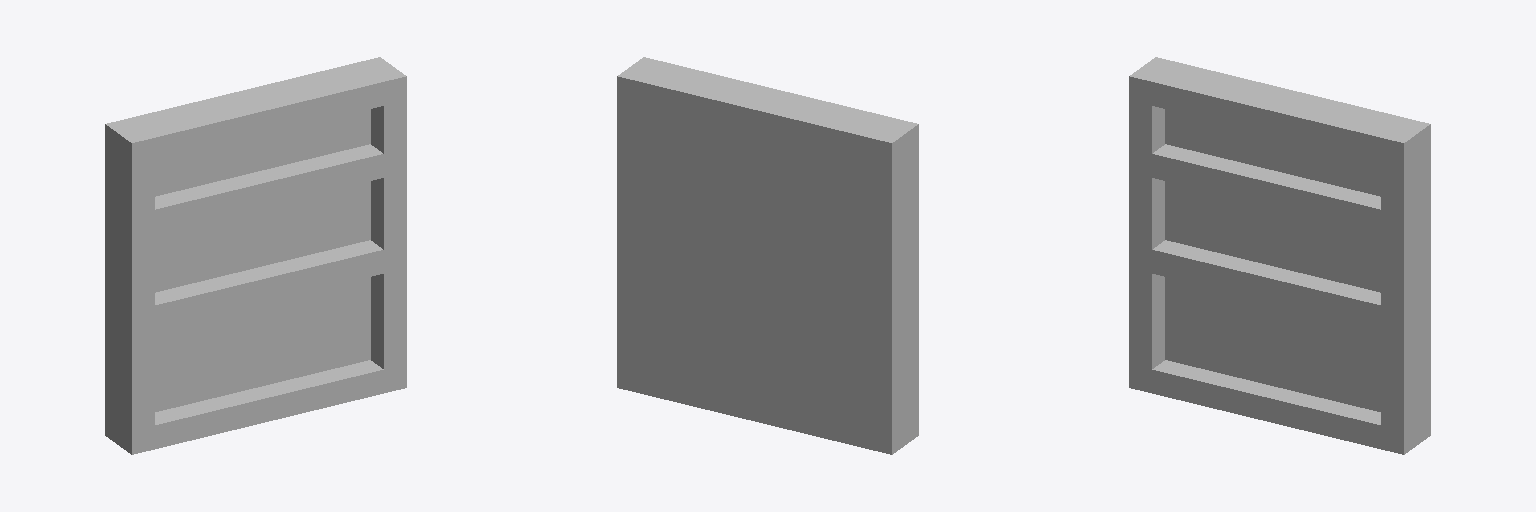
The model's file is Edificio Rojo-5-Window.obj.
3 renders of one model, left to right at view 1: azimuth 30°, elevation 25°; view 2: azimuth 150°, elevation 25°; view 3: azimuth 330°, elevation 25°, orthographic.
Parts seen in each view (by area): view 1: Window; view 2: Window; view 3: Window.
Boxes of the visible parts, x1=… form: Window: x1=105, y1=57, x2=406, y2=454; Window: x1=617, y1=57, x2=918, y2=454; Window: x1=1129, y1=57, x2=1430, y2=454.
Bounding box in the file's own units: 1.2 × 1.3 × 0.2.